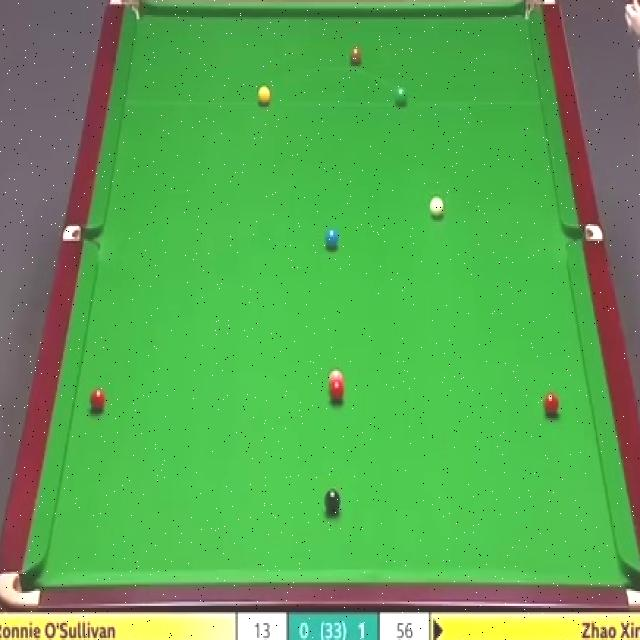black-ball: (322, 488, 342, 513)
blue-ball: (325, 229, 342, 251)
brown-ball: (348, 48, 362, 68)
green-ball: (393, 84, 408, 106)
pink-ball: (328, 368, 343, 384)
red-ball: (542, 391, 560, 417), (89, 386, 106, 413), (330, 380, 345, 402)
white-ball: (430, 196, 443, 219)
yellow-ball: (256, 85, 271, 106)
